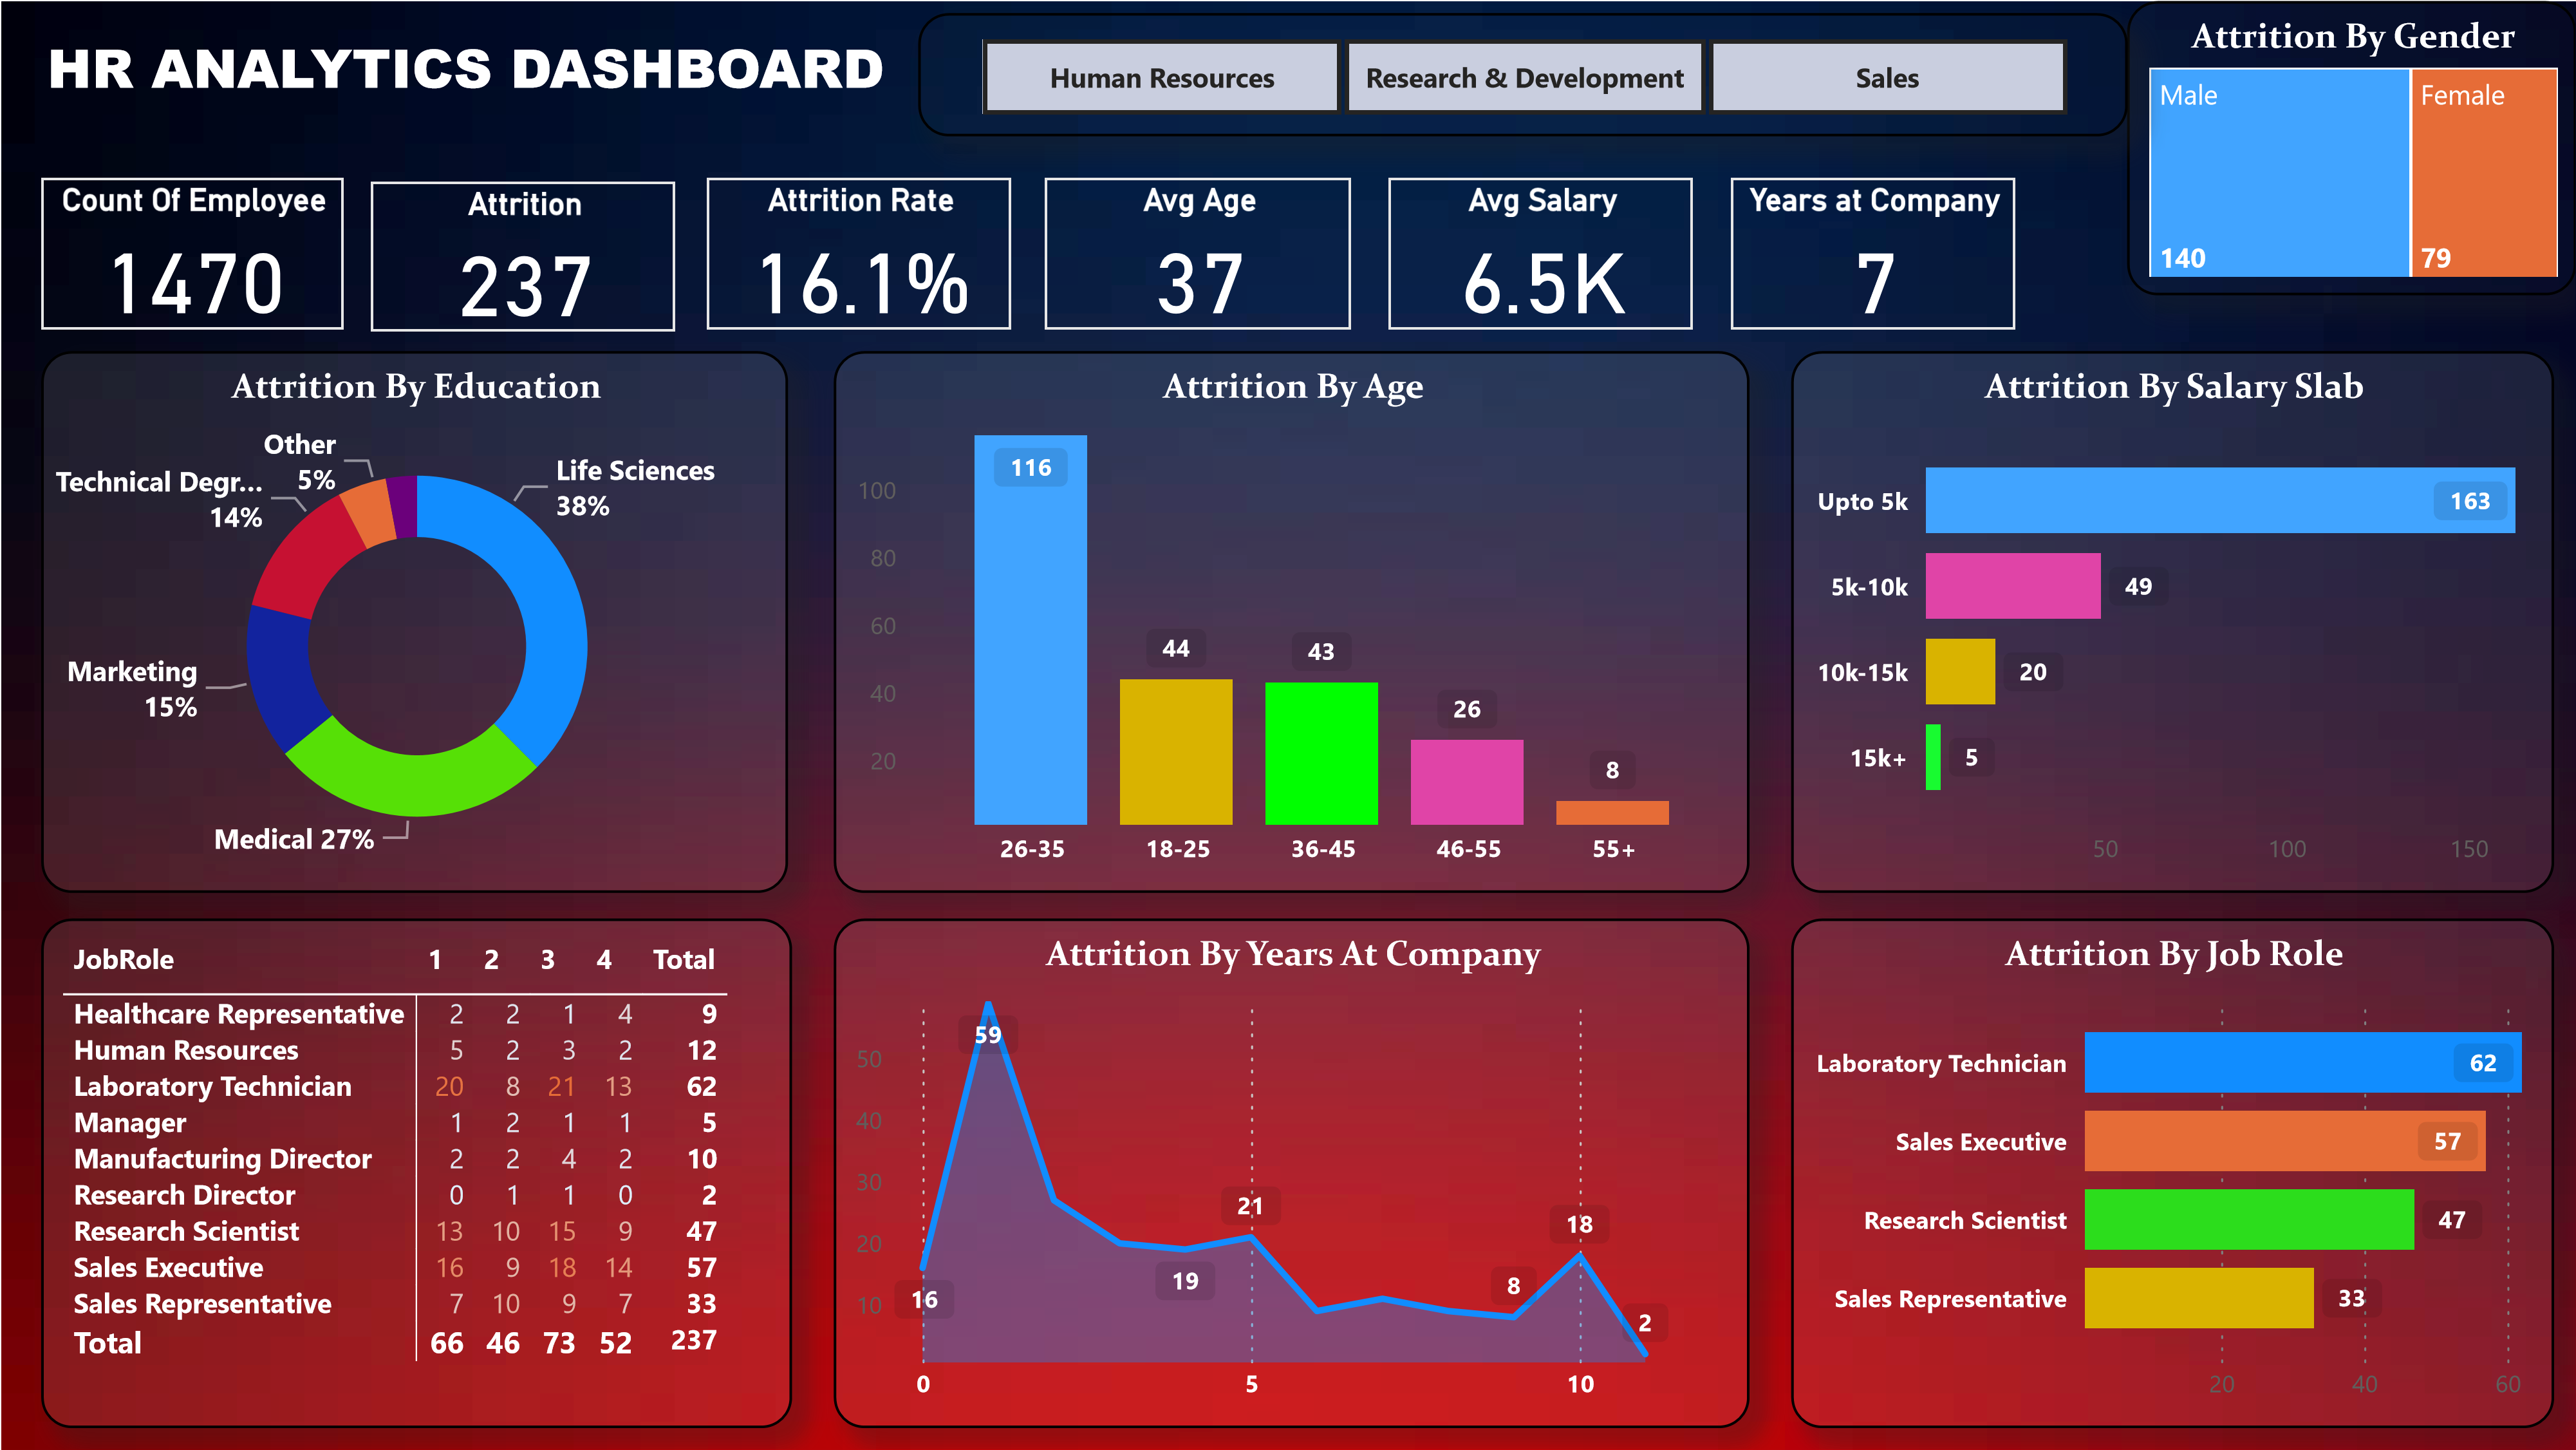

What the dashboard file says about the page in this screenshot:
{"tool":"powerbi","page":{"name":"Page 1","canvas":[1280,720],"ordinal":0},"visuals":[{"type":"card","title":"Count Of Employee","fields":{"Values":["CountNonNull(HR Analytics.EmpID)"]},"box":[20.3,88.2,149.2,74.6],"z":0},{"type":"card","title":"Attrition","fields":{"Values":["Sum(HR Analytics.AttritionCount)"]},"box":[184.4,89.5,150.5,74.6],"z":1000},{"type":"card","title":"Attrition Rate","fields":{"Values":["Calculations.AttritionRate"]},"box":[351.3,88.2,150.5,74.6],"z":2000},{"type":"card","title":"Avg Age ","fields":{"Values":["Avg(HR Analytics.Age)"]},"box":[519.4,88.2,151.9,74.6],"z":3000},{"type":"card","title":"Years at Company","fields":{"Values":["Avg(HR Analytics.YearsAtCompany)"]},"box":[859.8,88.2,141,74.6],"z":4000},{"type":"card","title":"Avg Salary","fields":{"Values":["Avg(HR Analytics.MonthlyIncome)"]},"box":[690.3,88.2,150.5,74.6],"z":5000},{"type":"donutChart","title":"Attrition By Education","fields":{"Category":["HR Analytics.EducationField"],"Y":["Sum(HR Analytics.AttritionCount)"]},"box":[20,174.3,371.4,268.6],"z":6000},{"type":"columnChart","title":"Attrition By Age","fields":{"Category":["HR Analytics.AgeGroup"],"Y":["Sum(HR Analytics.AttritionCount)"]},"box":[414.3,174.3,454.3,268.6],"z":7000},{"type":"pivotTable","fields":{"Rows":["HR Analytics.JobRole"],"Columns":["HR Analytics.JobSatisfaction"],"Values":["Sum(HR Analytics.AttritionCount)"]},"box":[20,455.7,372.9,252.9],"z":8000},{"type":"barChart","title":"Attrition By Salary Slab","fields":{"Category":["HR Analytics.SalarySlab"],"Y":["Sum(HR Analytics.AttritionCount)"]},"box":[890,174.3,378.6,268.6],"z":9000},{"type":"barChart","title":"Attrition By Job Role","fields":{"Y":["Sum(HR Analytics.AttritionCount)"],"Category":["HR Analytics.JobRole"]},"box":[890,455.7,378.6,252.9],"z":10000},{"type":"areaChart","title":"Attrition By Years At Company","fields":{"Category":["HR Analytics.YearsAtCompany"],"Y":["Sum(HR Analytics.AttritionCount)"]},"box":[414.3,455.7,454.3,252.9],"z":11000},{"type":"treemap","title":"Attrition By Gender","fields":{"Group":["HR Analytics.Gender"],"Values":["Sum(HR Analytics.AttritionCount)"]},"box":[1057.1,0,222.9,145.7],"z":12000},{"type":"slicer","title":"Attrition By Age","fields":{"Values":["HR Analytics.Department"]},"box":[455.7,5.7,601.4,61.4],"z":13000},{"type":"textbox","box":[0,9.5,472,58.3],"z":14000}]}

Visuals, with their boxes in screenshot pixels (x1, y1, x2, y2), scaled from the page's 1280x720 canvas onto the 2576x1450 screenshot:
"Count Of Employee" card: (41,178,341,328)
"Attrition" card: (371,180,674,330)
"Attrition Rate" card: (707,178,1010,328)
"Avg Age " card: (1045,178,1351,328)
"Years at Company" card: (1730,178,2014,328)
"Avg Salary" card: (1389,178,1692,328)
"Attrition By Education" donutChart: (41,351,788,892)
"Attrition By Age" columnChart: (834,351,1748,892)
pivotTable - HR Analytics.JobRole x HR Analytics.JobSatisfaction: (41,918,790,1427)
"Attrition By Salary Slab" barChart: (1791,351,2553,892)
"Attrition By Job Role" barChart: (1791,918,2553,1427)
"Attrition By Years At Company" areaChart: (834,918,1748,1427)
"Attrition By Gender" treemap: (2127,0,2575,294)
"Attrition By Age" slicer: (917,12,2127,135)
textbox: (0,19,950,137)
